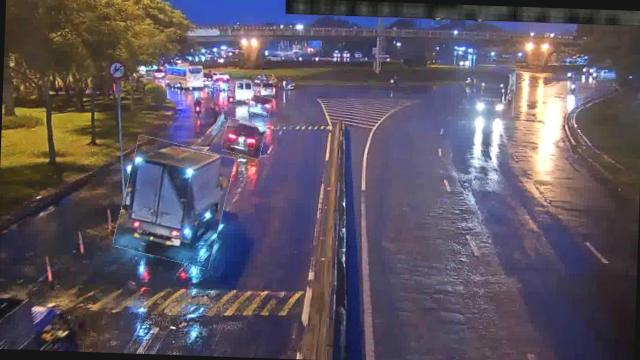Car: (223, 120, 266, 158), (248, 95, 272, 117)
Truck: (116, 138, 230, 266), (475, 66, 515, 116)
